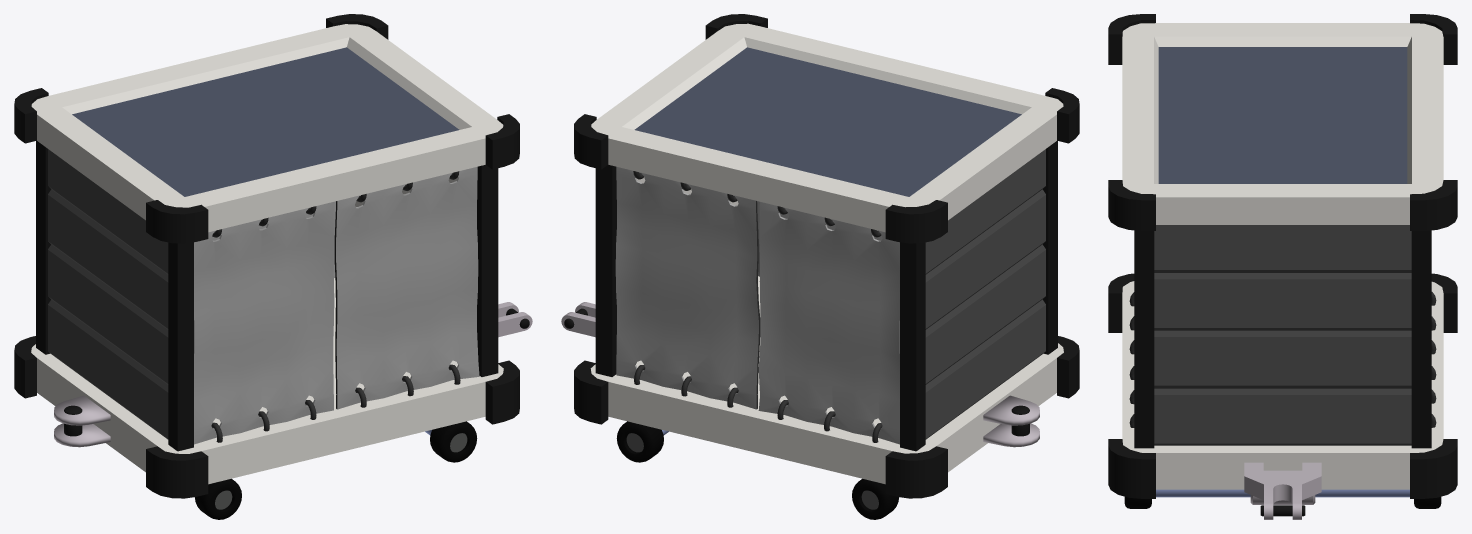
Rendered from airport-baggage-truck-3.glb.
3 views of the same model, side by side, from view 1: azimuth 30°, elevation 25°; view 2: azimuth 150°, elevation 25°; view 3: azimuth 270°, elevation 25° (orthographic). The views are drawn at different scales.
Parts seen in each view (by area): view 1: 21.2.BaggageTruck_AIRPORT_0; view 2: 21.2.BaggageTruck_AIRPORT_0; view 3: 21.2.BaggageTruck_AIRPORT_0.
Boxes of the visible parts, x1,y1,x2,y2 form: 21.2.BaggageTruck_AIRPORT_0: [14, 14, 532, 519]; 21.2.BaggageTruck_AIRPORT_0: [561, 14, 1079, 519]; 21.2.BaggageTruck_AIRPORT_0: [1108, 14, 1457, 519].
Size of the model in its own units: 7.06 by 4.67 by 4.36.
Materials: 1 (1 with a texture image).
